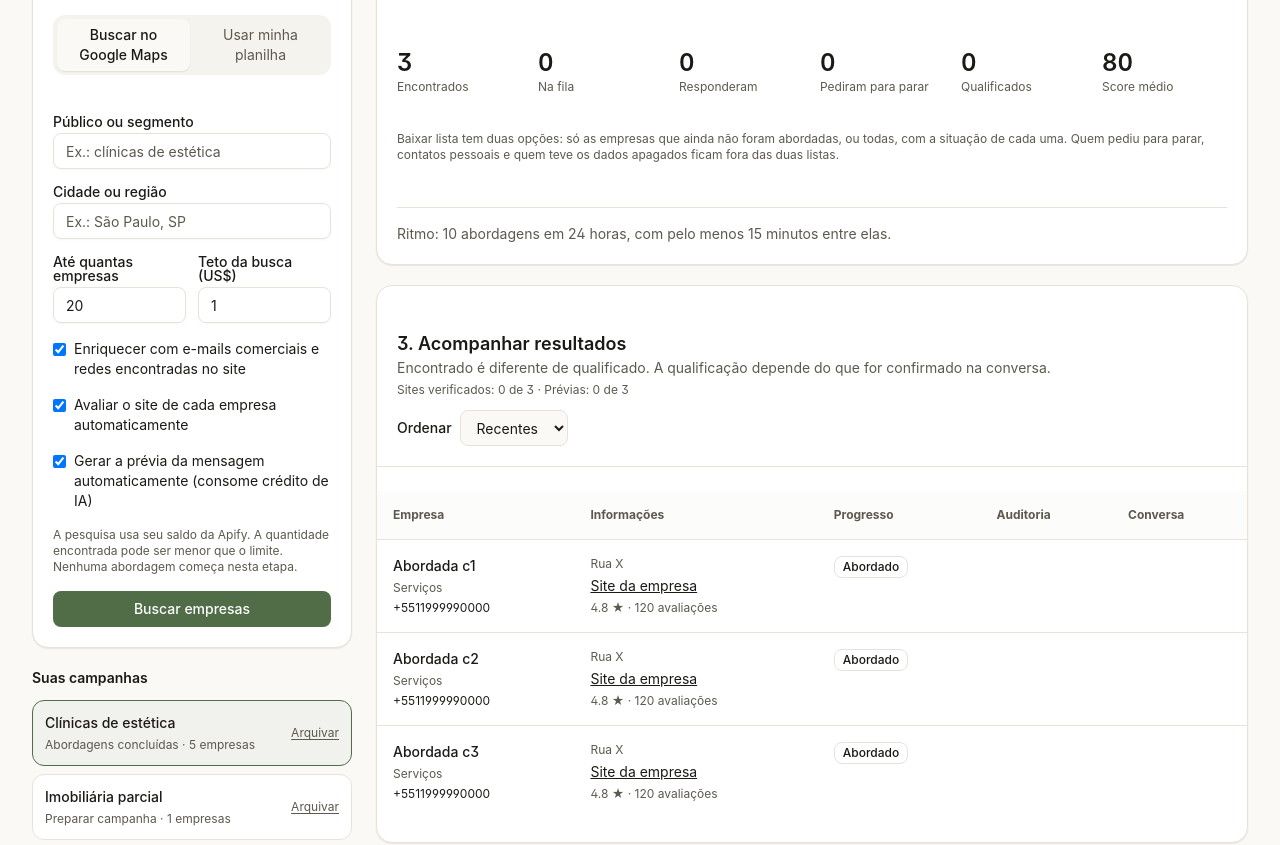
Test case: baixar a lista da campanha (issue #4360) › campanha concluída: 'Todas (M)' baixa a lista inteira, e a tela diz quantas ficaram de fora
(page scrolled)
Step 1. Click the button "Clínicas de estética Abordagens concluídas · 5 empresas" → (152,733), box [33, 701, 271, 765]
(page scrolled)
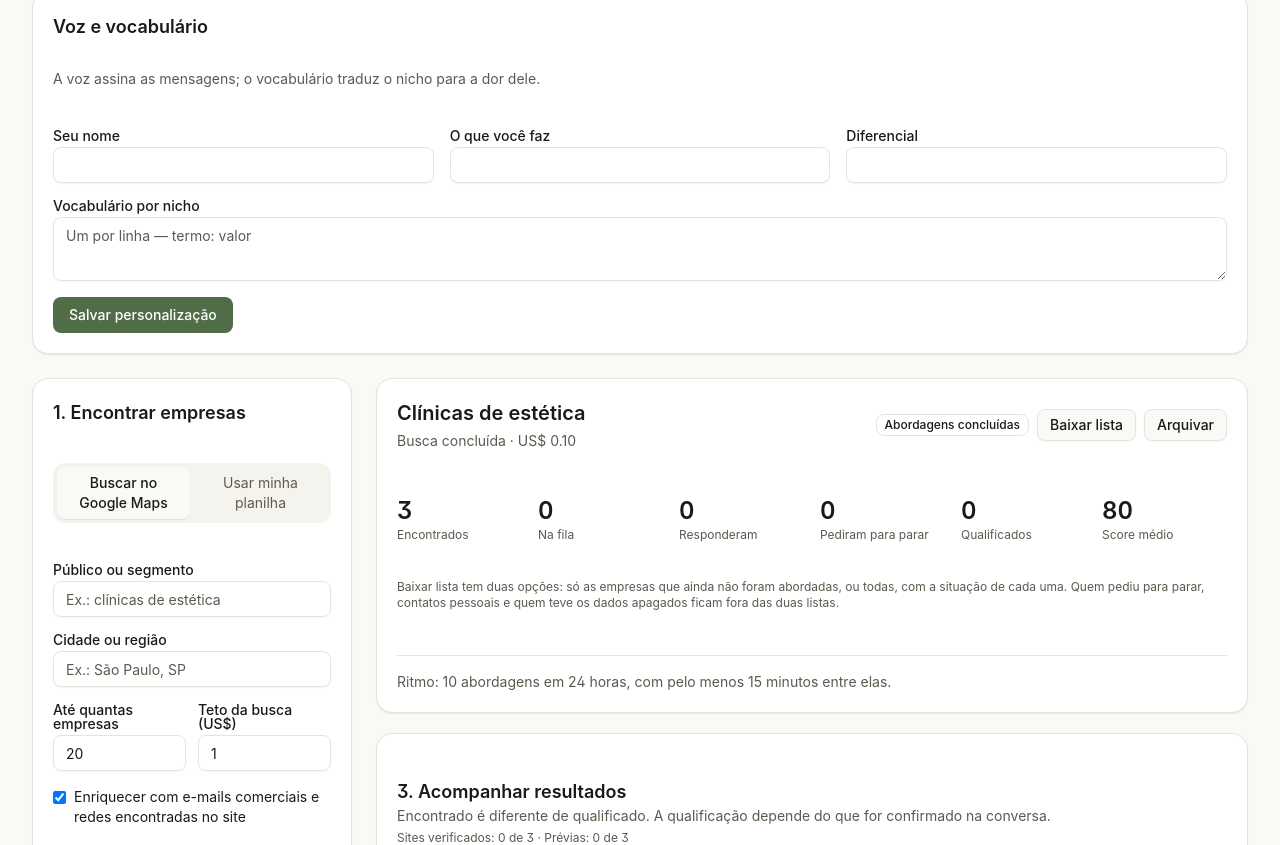
Step 2. Click the button with test id "baixar-lista" → (1086,425), box [1037, 409, 1136, 441]
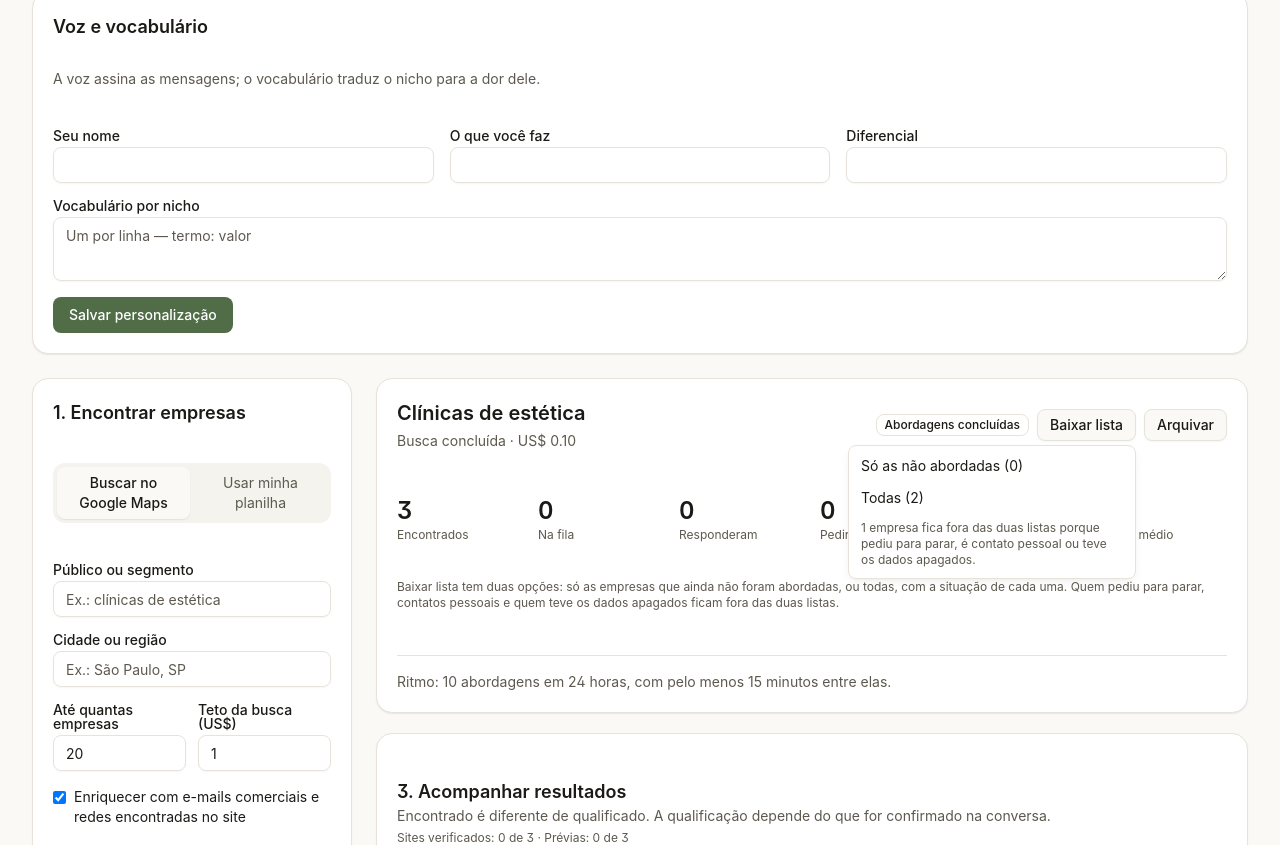
Expected: the text "Baixar lista tem duas opções: só as empresas que ainda não foram abordadas, ou todas, com a situação de cada uma. Quem p" is shown, [397, 579, 1204, 610]
Expected: the text with test id "baixar-lista-fora" shows "1 empresa fica fora das duas listas porque pediu para parar, é contato pessoal ou teve os dados apagados.", [861, 520, 1107, 567]
